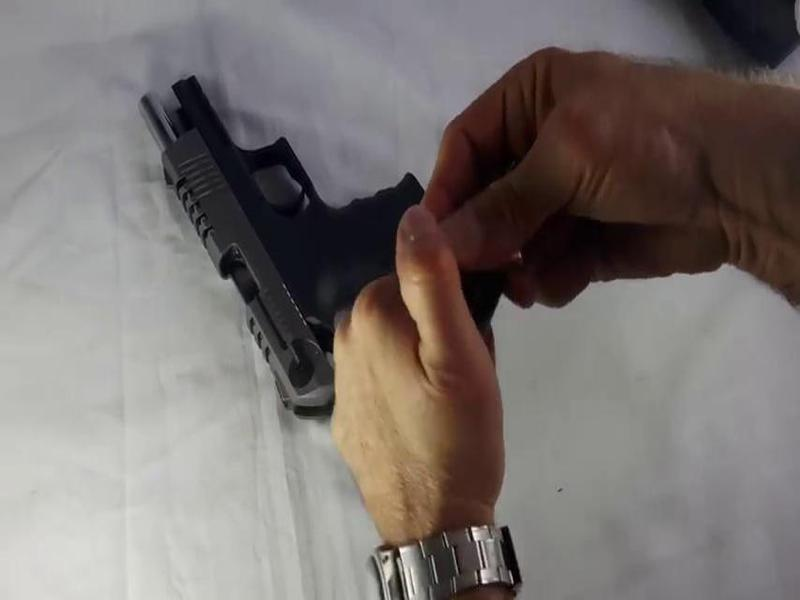Pistola: (123, 57, 439, 425)
